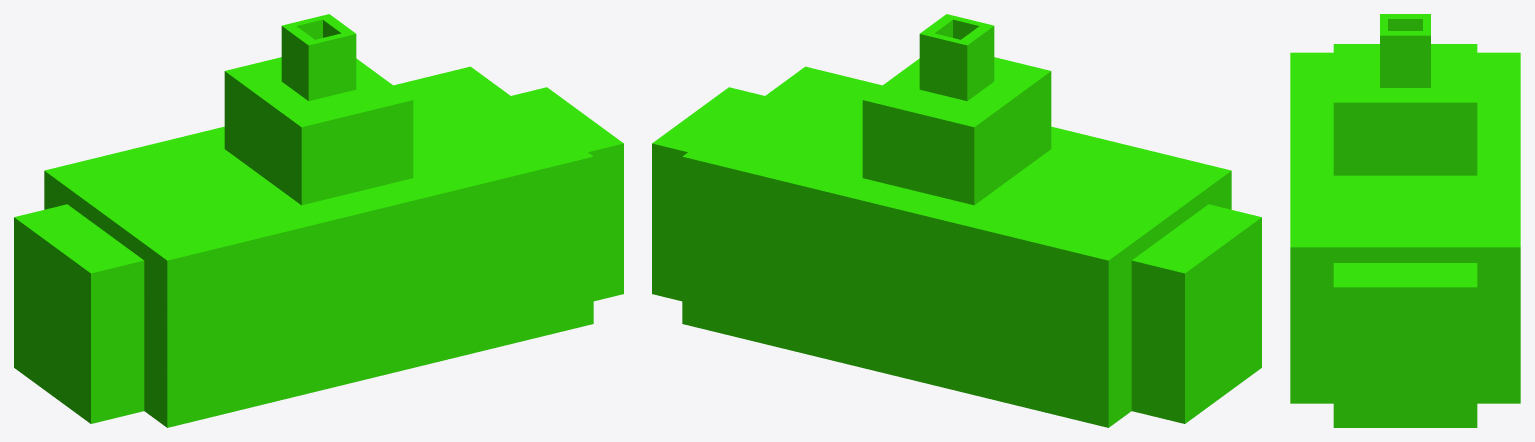
Rendered from Nave.glb.
The picture shows the model from 3 angles, left to right: view 1: azimuth 30°, elevation 25°; view 2: azimuth 150°, elevation 25°; view 3: azimuth 270°, elevation 25°; orthographic projection. The views are drawn at different scales.
Parts seen in each view (by area): view 1: Player_02 - Default_0; view 2: Player_02 - Default_0; view 3: Player_02 - Default_0.
Part boxes in pixels (box(x1,y1,x2,y2)): Player_02 - Default_0: box(14, 14, 623, 427); Player_02 - Default_0: box(652, 14, 1261, 427); Player_02 - Default_0: box(1290, 14, 1520, 427).
Bounding box in the file's own units: 50 × 27 × 20.
1 material, 1 textured.
